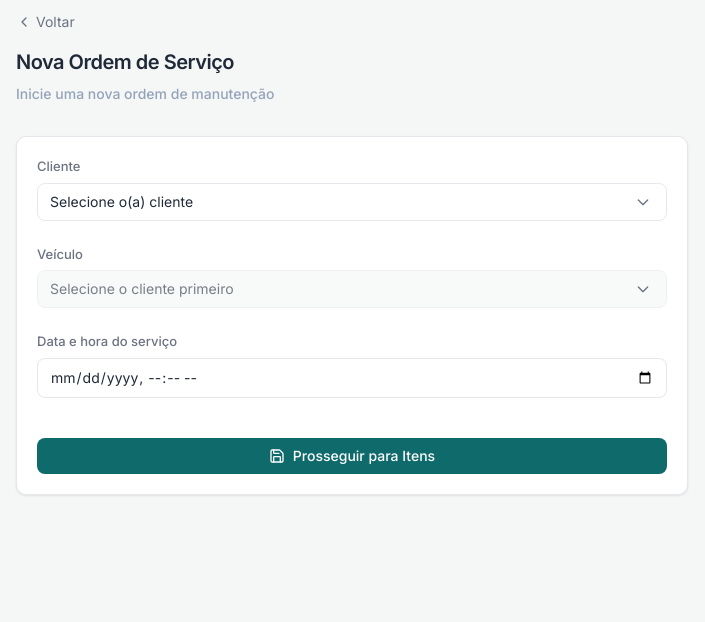
Test: <OrderCreate> — orçamento base › lista os orçamentos pendentes do par cliente+veículo com os totais
Select "5" in the dropdown below "Cliente" at x=352, y=202, box x1=37 y1=182 x2=667 y2=220
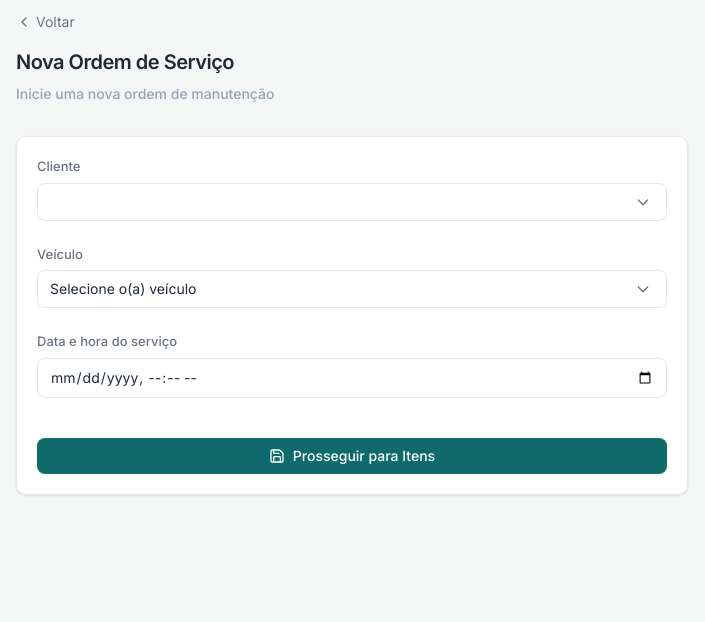
Select "VW Gol (ABC1D23)" in the dropdown below "Veículo" at x=352, y=289, box x1=37 y1=270 x2=667 y2=308
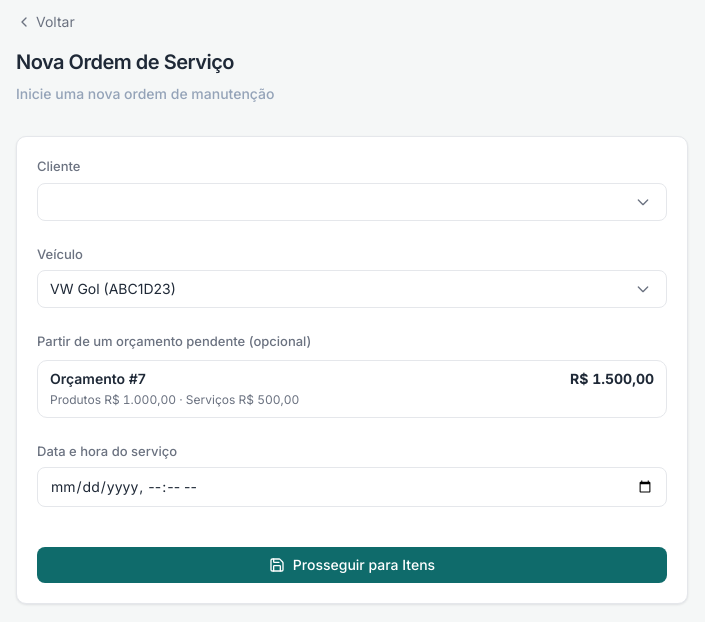
Expected: the text "Orçamento #7" is shown, x1=50 y1=368 x2=146 y2=388
Expected: the text "R$ 1.500,00" is shown, x1=570 y1=368 x2=654 y2=388
Expected: the text "Produtos R$ 1.000,00 · Serviços R$ 500,00" is shown, x1=50 y1=392 x2=299 y2=406
